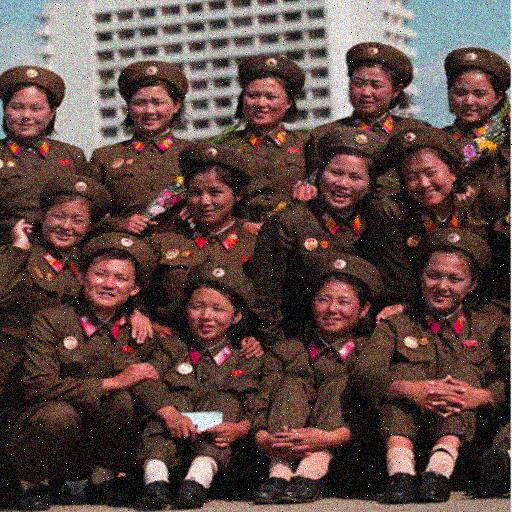north army: (9, 52, 512, 449)
